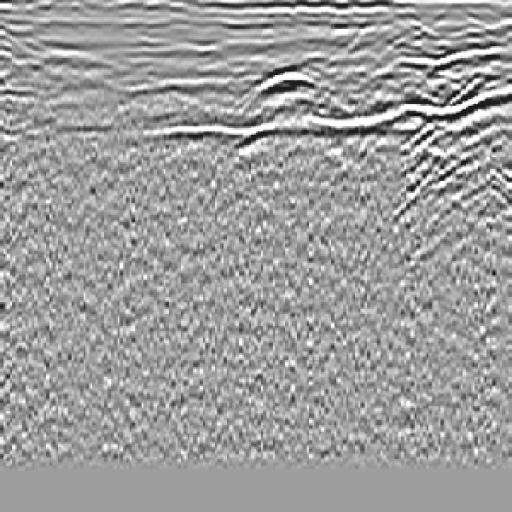metalic: (226, 62, 354, 114)
non-metallic: (395, 46, 512, 231)
